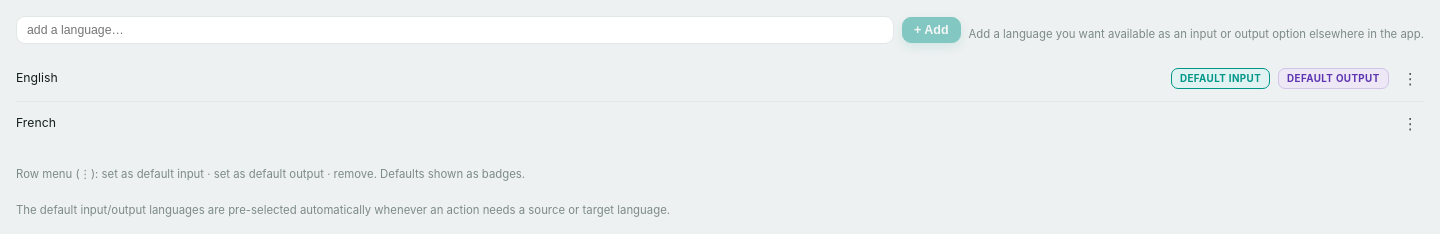
Test case: LanguageConfigTab › enables Add button when user types a language name
In the field named "new language": x=455, y=30 [16,16,894,44], type "Spanish"
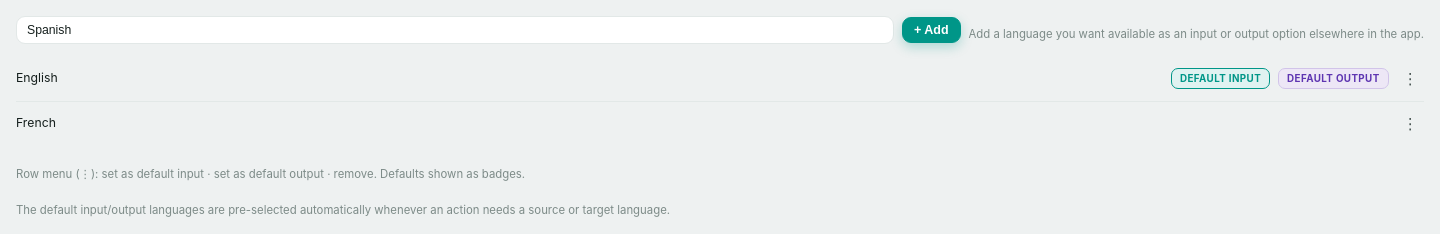
Now the button "+ Add" is enabled, box [902,17,960,43]
